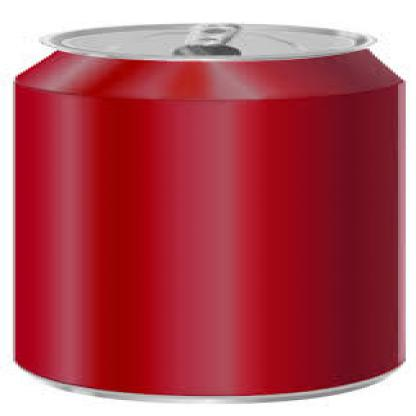Compsot: (10, 21, 403, 400)
